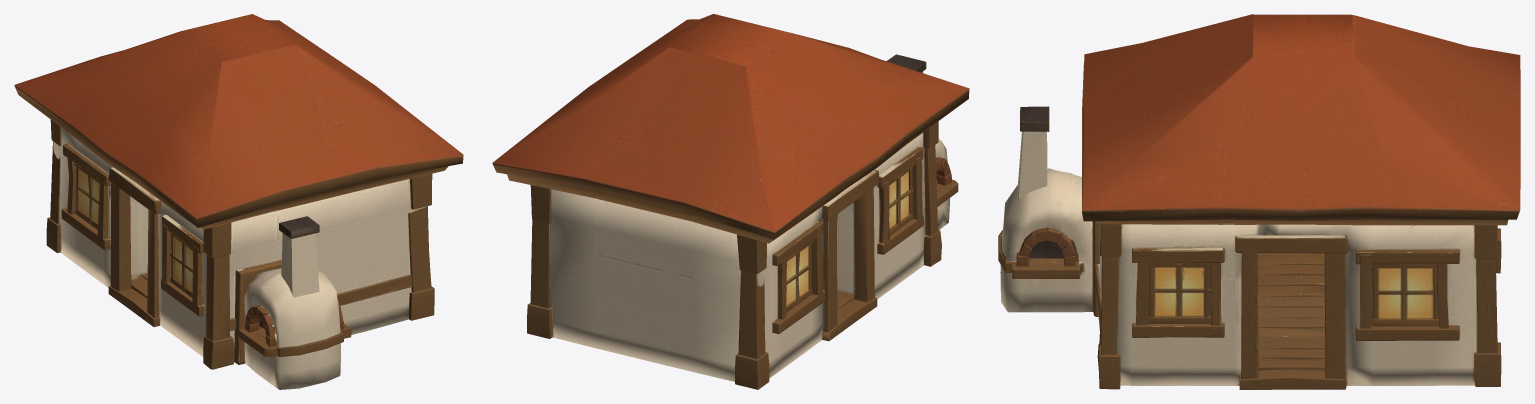
File: AW-TAVERN-001-v0.2.glb
3 renders of one model, left to right at view 1: azimuth 30°, elevation 25°; view 2: azimuth 150°, elevation 25°; view 3: azimuth 270°, elevation 25°, orthographic. The views are drawn at different scales.
Parts seen in each view (by area): view 1: AW-TAVERN-001_meter_ground_pivot; view 2: AW-TAVERN-001_meter_ground_pivot; view 3: AW-TAVERN-001_meter_ground_pivot.
Part boxes in pixels (<box>): AW-TAVERN-001_meter_ground_pivot: <box>14,14,463,389</box>; AW-TAVERN-001_meter_ground_pivot: <box>492,14,969,389</box>; AW-TAVERN-001_meter_ground_pivot: <box>998,14,1520,389</box>.
Bounding box in the file's own units: 5.21 × 4.5 × 7.3.
1 material, 1 textured.
